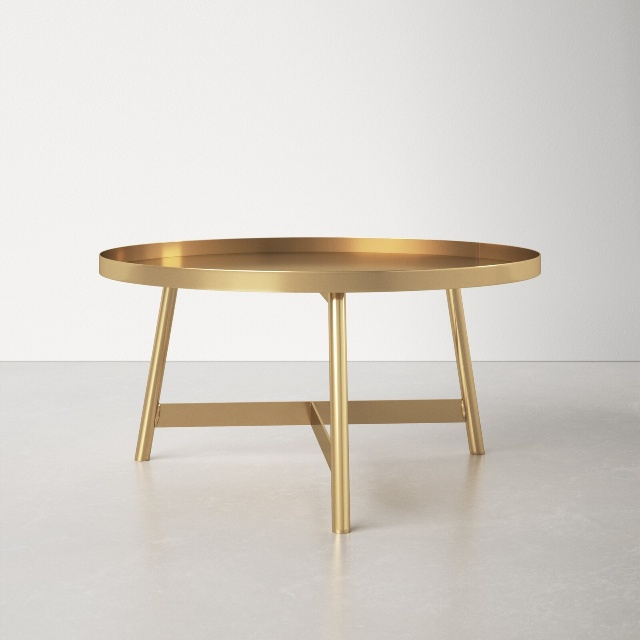obstacle: (99, 238, 540, 533)
